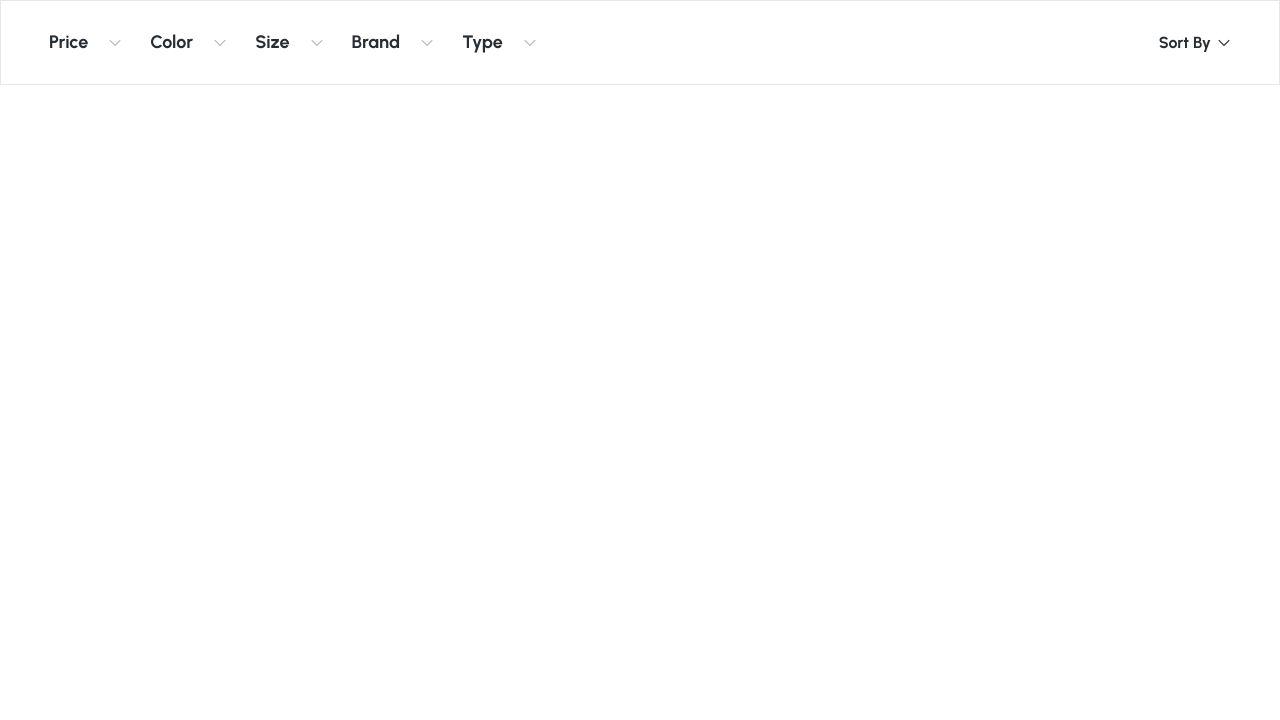
Test case: FilterBar › close modal when user clicks outside of it
The image size is (1280, 720).
Step 1. Click the button "Price" → click(86, 42), box [49,29,122,56]
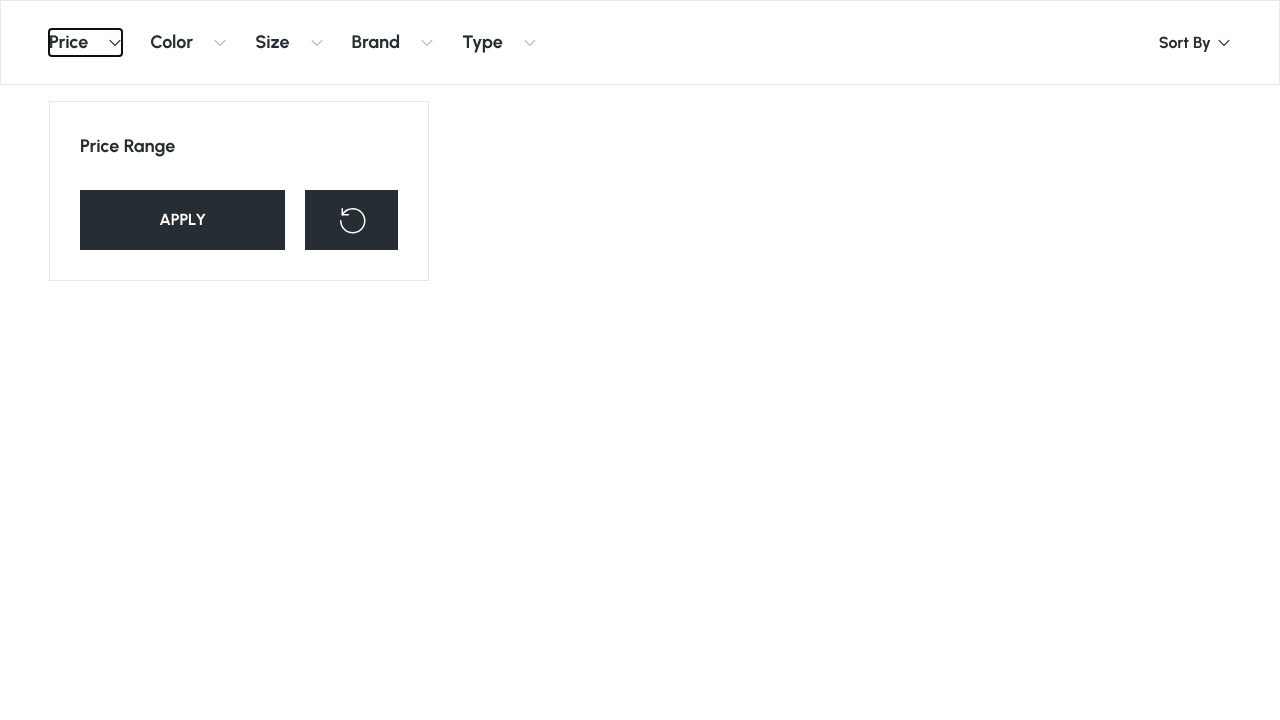
Check: the heading "Price Range" is shown, box [80,135,175,157]
Step 2. Click the element showing "Price Price Range APPLY Color Size Brand Type Sort By" → click(640, 42), box [0,0,1279,85]
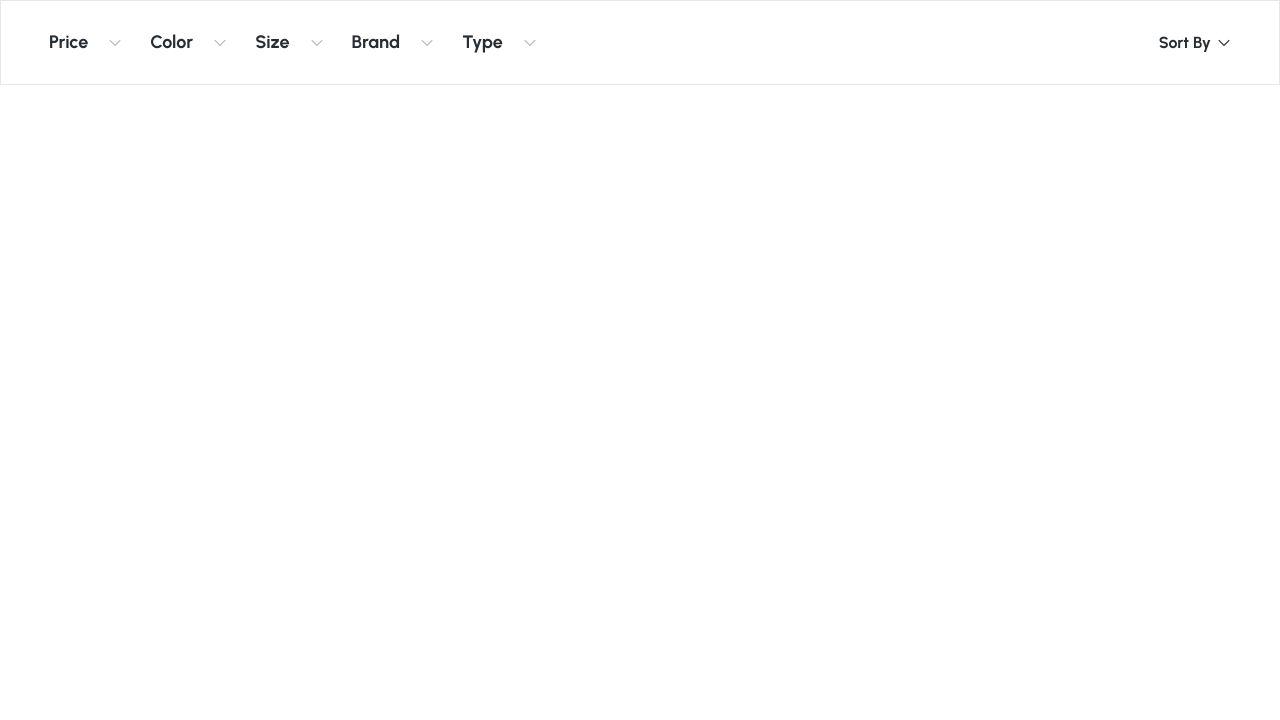
Check: the heading "Price Range" is gone
